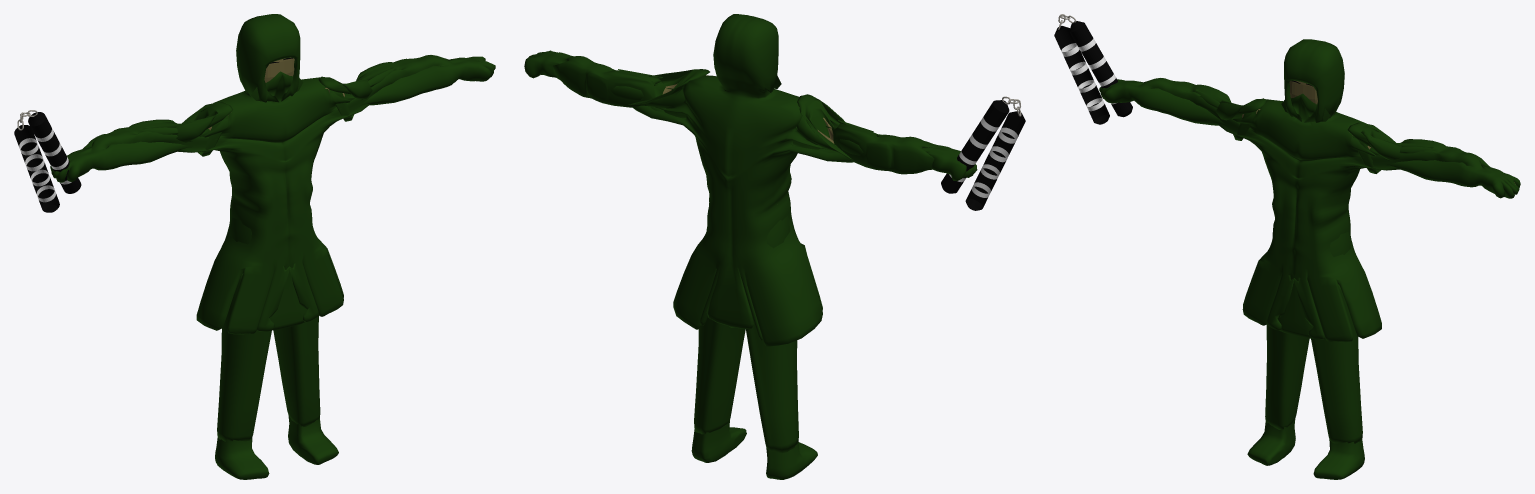
Rendered from enemy2_budoucnost.fbx.
3 views of the same model, side by side, from view 1: azimuth 30°, elevation 25°; view 2: azimuth 150°, elevation 25°; view 3: azimuth 330°, elevation 25° (orthographic). The views are drawn at different scales.
Parts seen in each view (by area): view 1: kabat, kalhoty, boty, Cylinder; view 2: kabat, kalhoty, Cylinder, boty; view 3: kabat, kalhoty, Cylinder, boty.
Boxes of the visible parts, left/top/right/bottom form: kabat: left=50, top=14, right=495, bottom=334; kalhoty: left=217, top=273, right=320, bottom=441; boty: left=215, top=415, right=338, bottom=479; Cylinder: left=14, top=112, right=81, bottom=212; kabat: left=524, top=14, right=977, bottom=346; kalhoty: left=694, top=316, right=798, bottom=452; Cylinder: left=941, top=100, right=1025, bottom=210; boty: left=691, top=419, right=817, bottom=479; kabat: left=1099, top=39, right=1520, bottom=342; kalhoty: left=1265, top=284, right=1362, bottom=443; Cylinder: left=1054, top=21, right=1132, bottom=124; boty: left=1247, top=419, right=1364, bottom=479.
Size of the model in its own units: 401 by 348 by 62.35.
